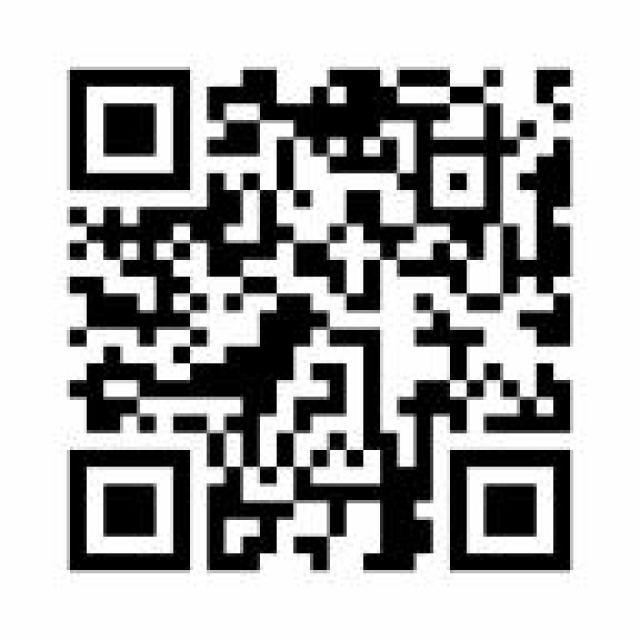qr_code: (68, 68, 571, 572)
